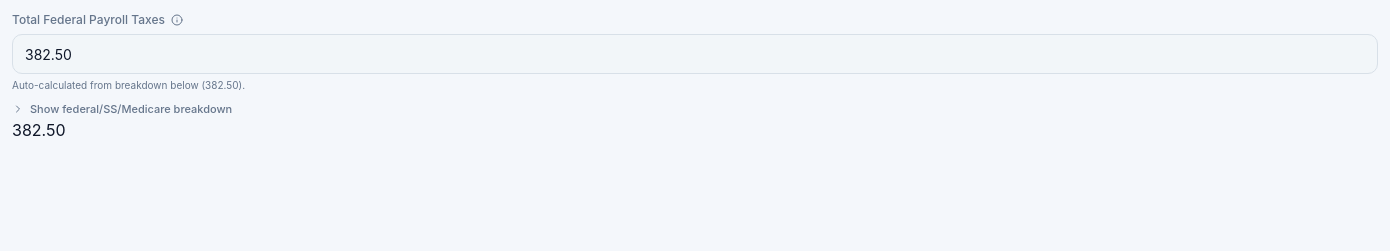
Test: FICA edit state › auto-total updates immediately when SS then Medicare are cleared
Later steps or results of the test are not shown.
Click the button with test id "paycheck-federal-breakdown-toggle".
click(122, 109)  # box x1=12 y1=101 x2=232 y2=118
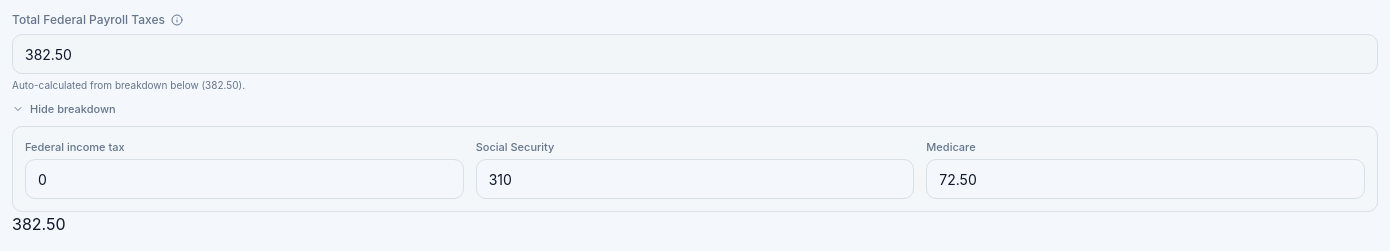
Clear the number field with test id "paycheck-social-security-input" at (695,179), box x1=476 y1=159 x2=914 y2=199
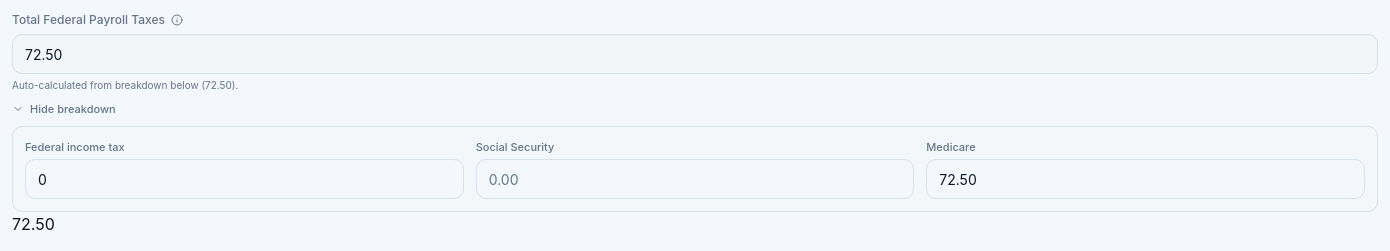
Expected: the text with test id "total-value" reads "72.50", x1=12 y1=214 x2=55 y2=234
